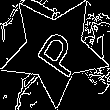P_NW: (25, 20, 84, 79)
